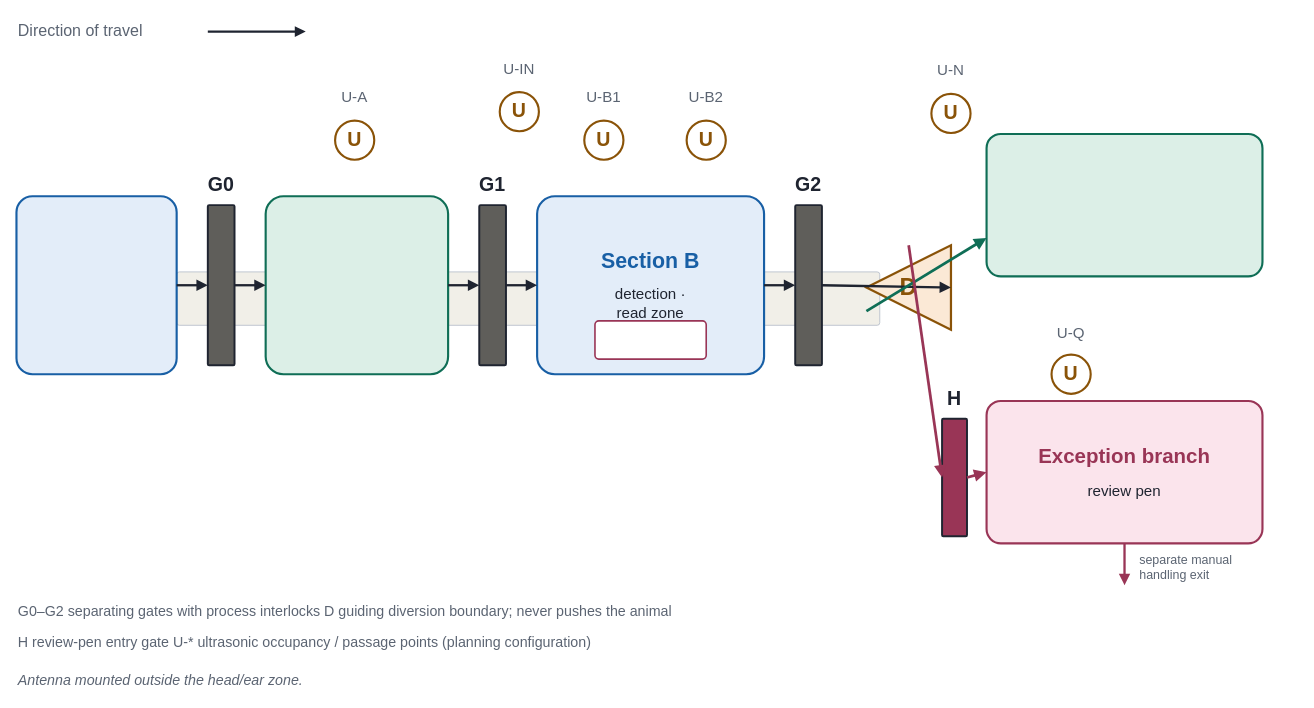
Image size: 1314x708. Some labels were removed from this diagram. Each missing label, with the centre of its shape:
Cattle holding area: (96,285)
LF RFID antenna: (650,339)
Normal return channel: (1124,204)
Section A single-animal buffer staff-confirmed (v1): (356,285)
